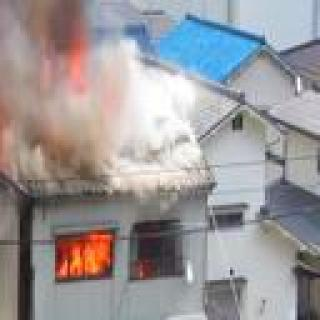fire: (54, 225, 121, 286)
